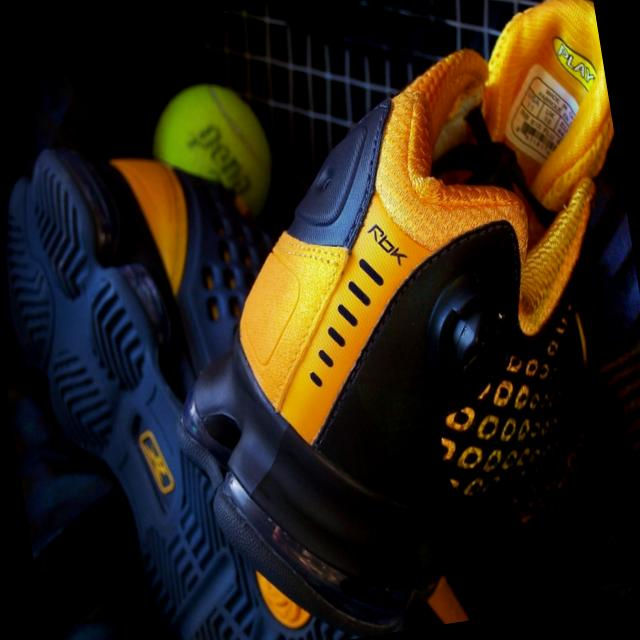Tennis Ball: (146, 68, 291, 224)
